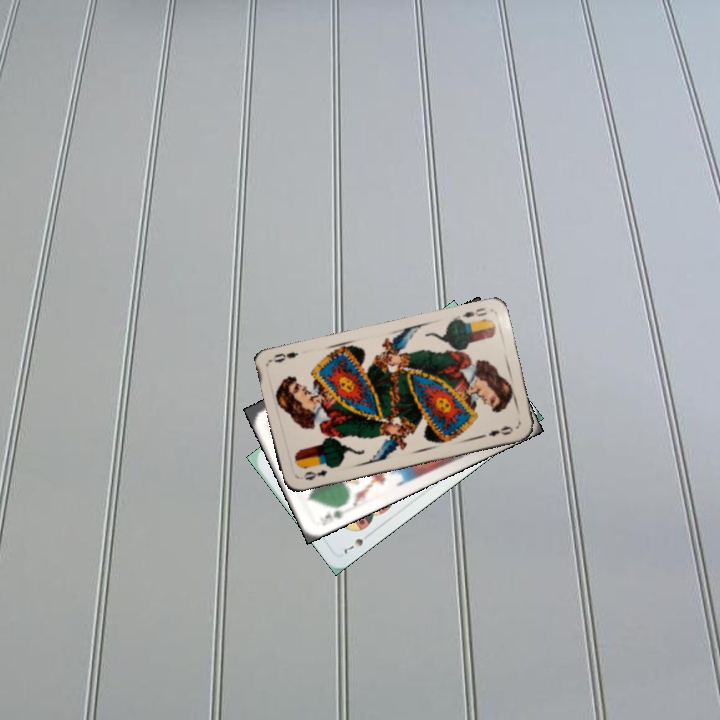EO: (452, 303, 490, 326), (295, 466, 330, 483)
GK: (316, 506, 346, 528)
S7: (340, 534, 366, 557)
